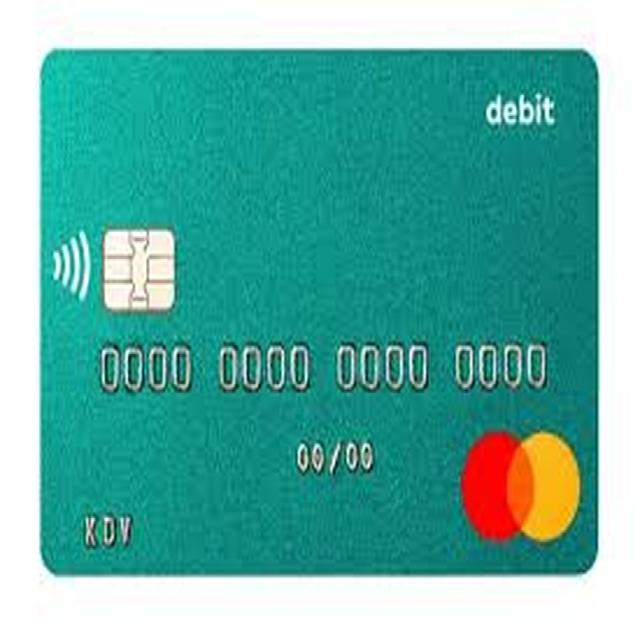card: (23, 32, 615, 601)
